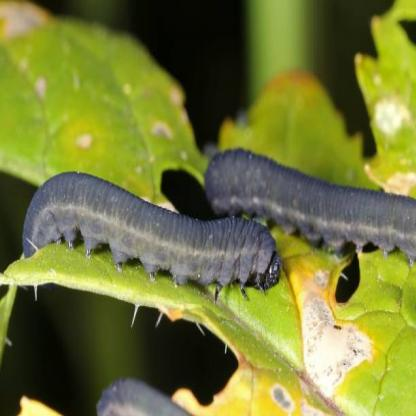sawfly: (19, 165, 285, 297), (203, 139, 416, 264)
